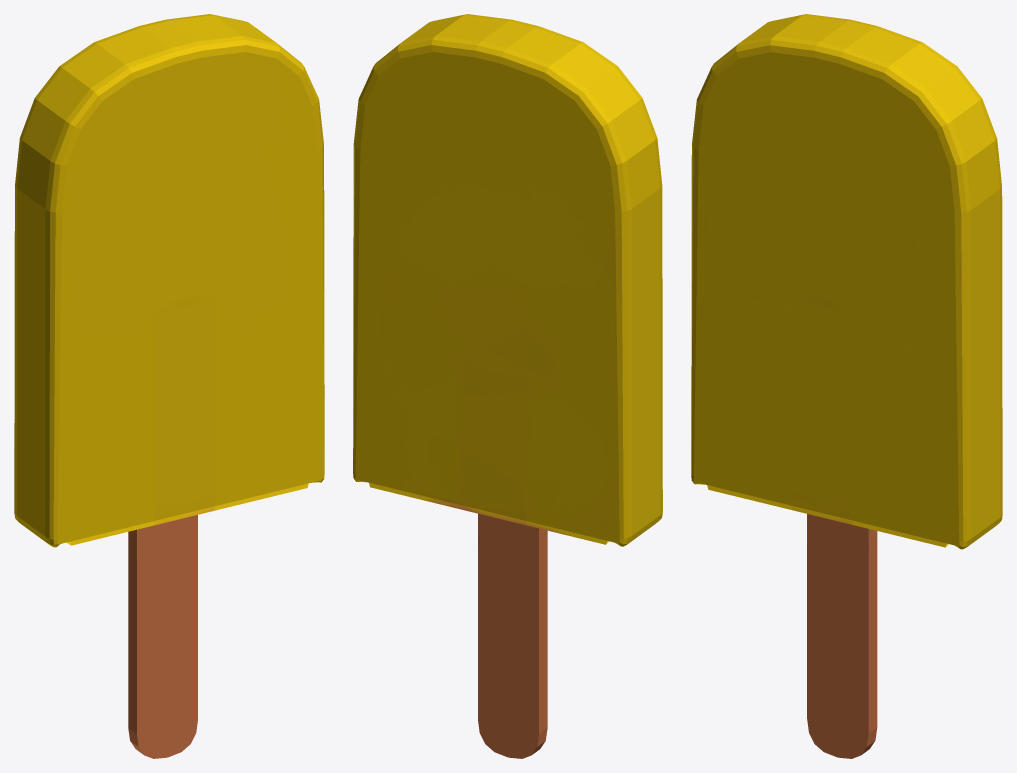
Rendered from ice lolly.FBX.
3 renders of one model, left to right at view 1: azimuth 30°, elevation 25°; view 2: azimuth 150°, elevation 25°; view 3: azimuth 330°, elevation 25°, orthographic.
Visible parts, largest first — view 1: Box001; view 2: Box001; view 3: Box001.
Part boxes in pixels (x1,y1,x2,y2): Box001: [14, 14, 324, 758]; Box001: [353, 14, 662, 758]; Box001: [691, 14, 1002, 758].
Bounding box in the file's own units: 33.98 × 84.47 × 8.65.
